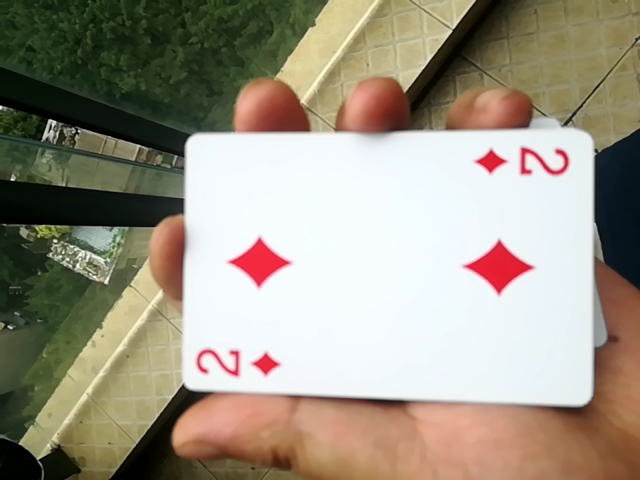fk 2: (159, 128, 599, 411)
